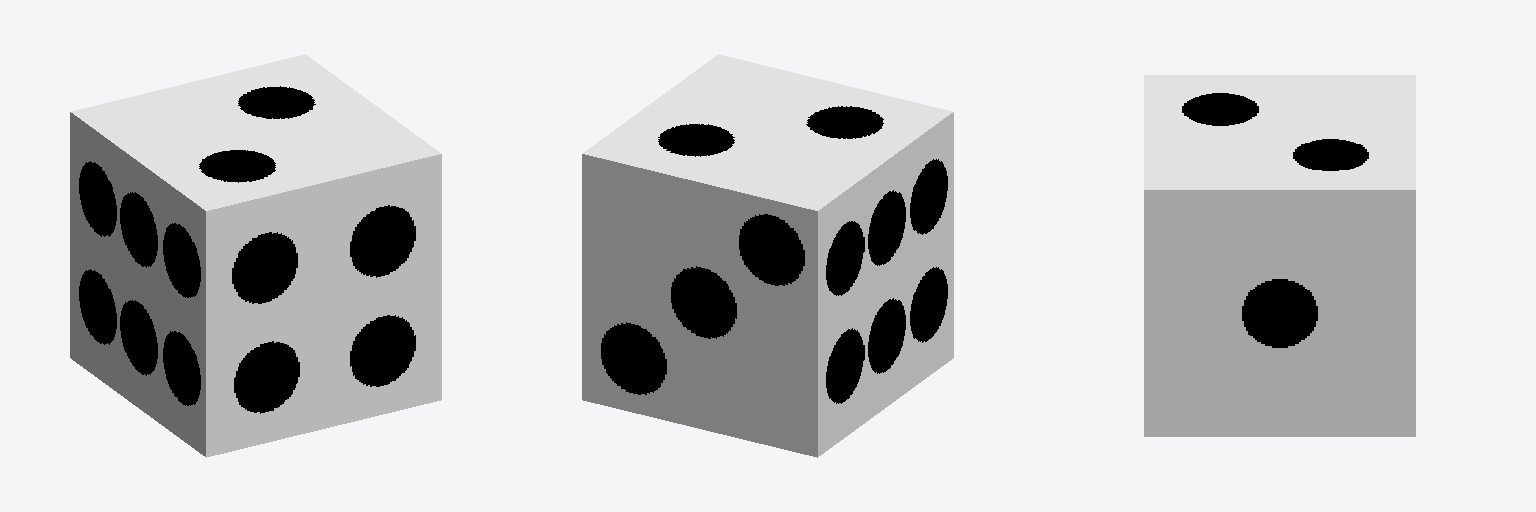
3 renders of one model, left to right at view 1: azimuth 30°, elevation 25°; view 2: azimuth 150°, elevation 25°; view 3: azimuth 270°, elevation 25°, orthographic.
Parts seen in each view (by area): view 1: Cube; view 2: Cube; view 3: Cube.
Boxes of the visible parts, <box> form: Cube: <box>70,54,441,457</box>; Cube: <box>582,54,953,457</box>; Cube: <box>1144,75,1415,436</box>.
Size of the model in its own units: 2 by 2 by 2.
Materials: 6 (6 with a texture image).